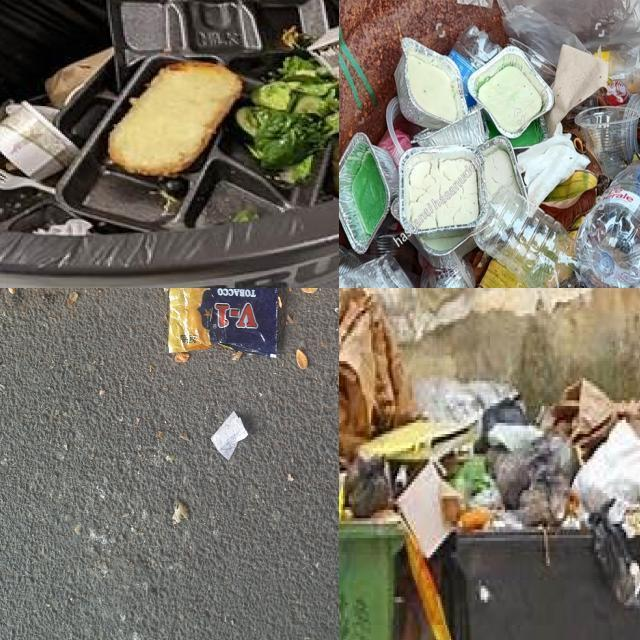Background: (0, 288, 339, 640)
Disposable: (57, 58, 339, 231), (108, 0, 328, 84), (0, 154, 91, 235), (55, 49, 117, 146)
Garbage: (573, 421, 640, 512)
Plastic_wraper: (169, 288, 278, 357)
